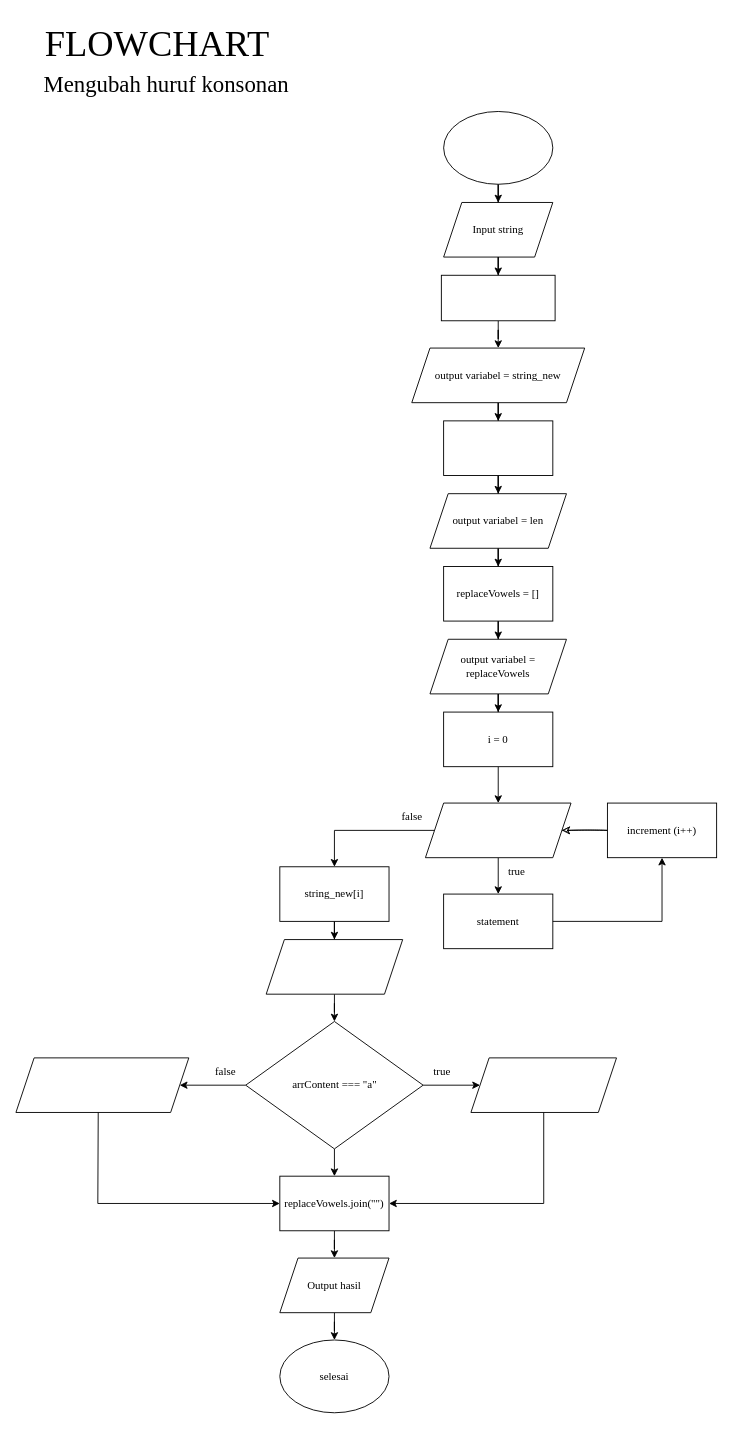
This 733x1429 diagram has some shape labels left out. Here are the shapes that lost their labels. From the top down, the box of each, then its label:
(443, 111, 553, 184): Mulai
(440, 274, 555, 321): string.split()
(443, 420, 553, 475): string_new.length
(425, 802, 571, 858): i < len
(265, 939, 403, 994): output variabel = arrContent
(15, 1057, 189, 1112): replaceVowels.push(arrContent)
(470, 1057, 617, 1112): replaceVowels.push("o")
